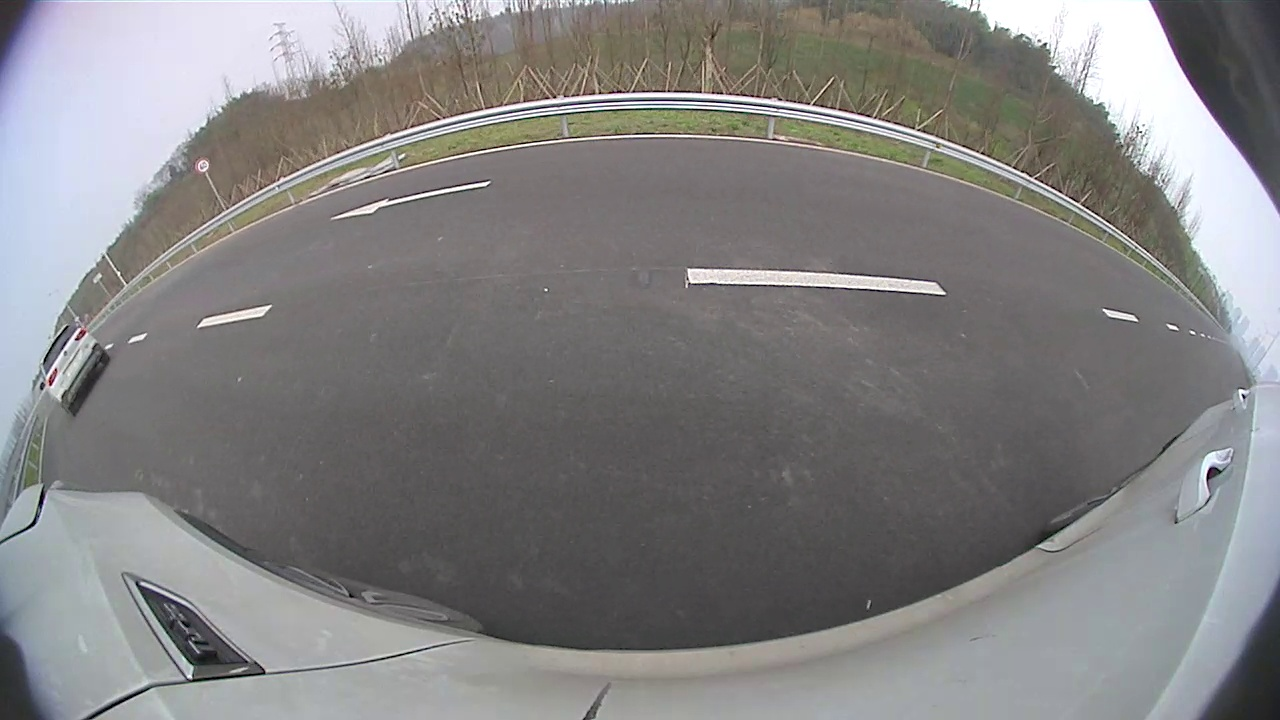car: (650, 133, 760, 205)
front: (651, 173, 665, 196)
rear: (672, 173, 689, 204)
